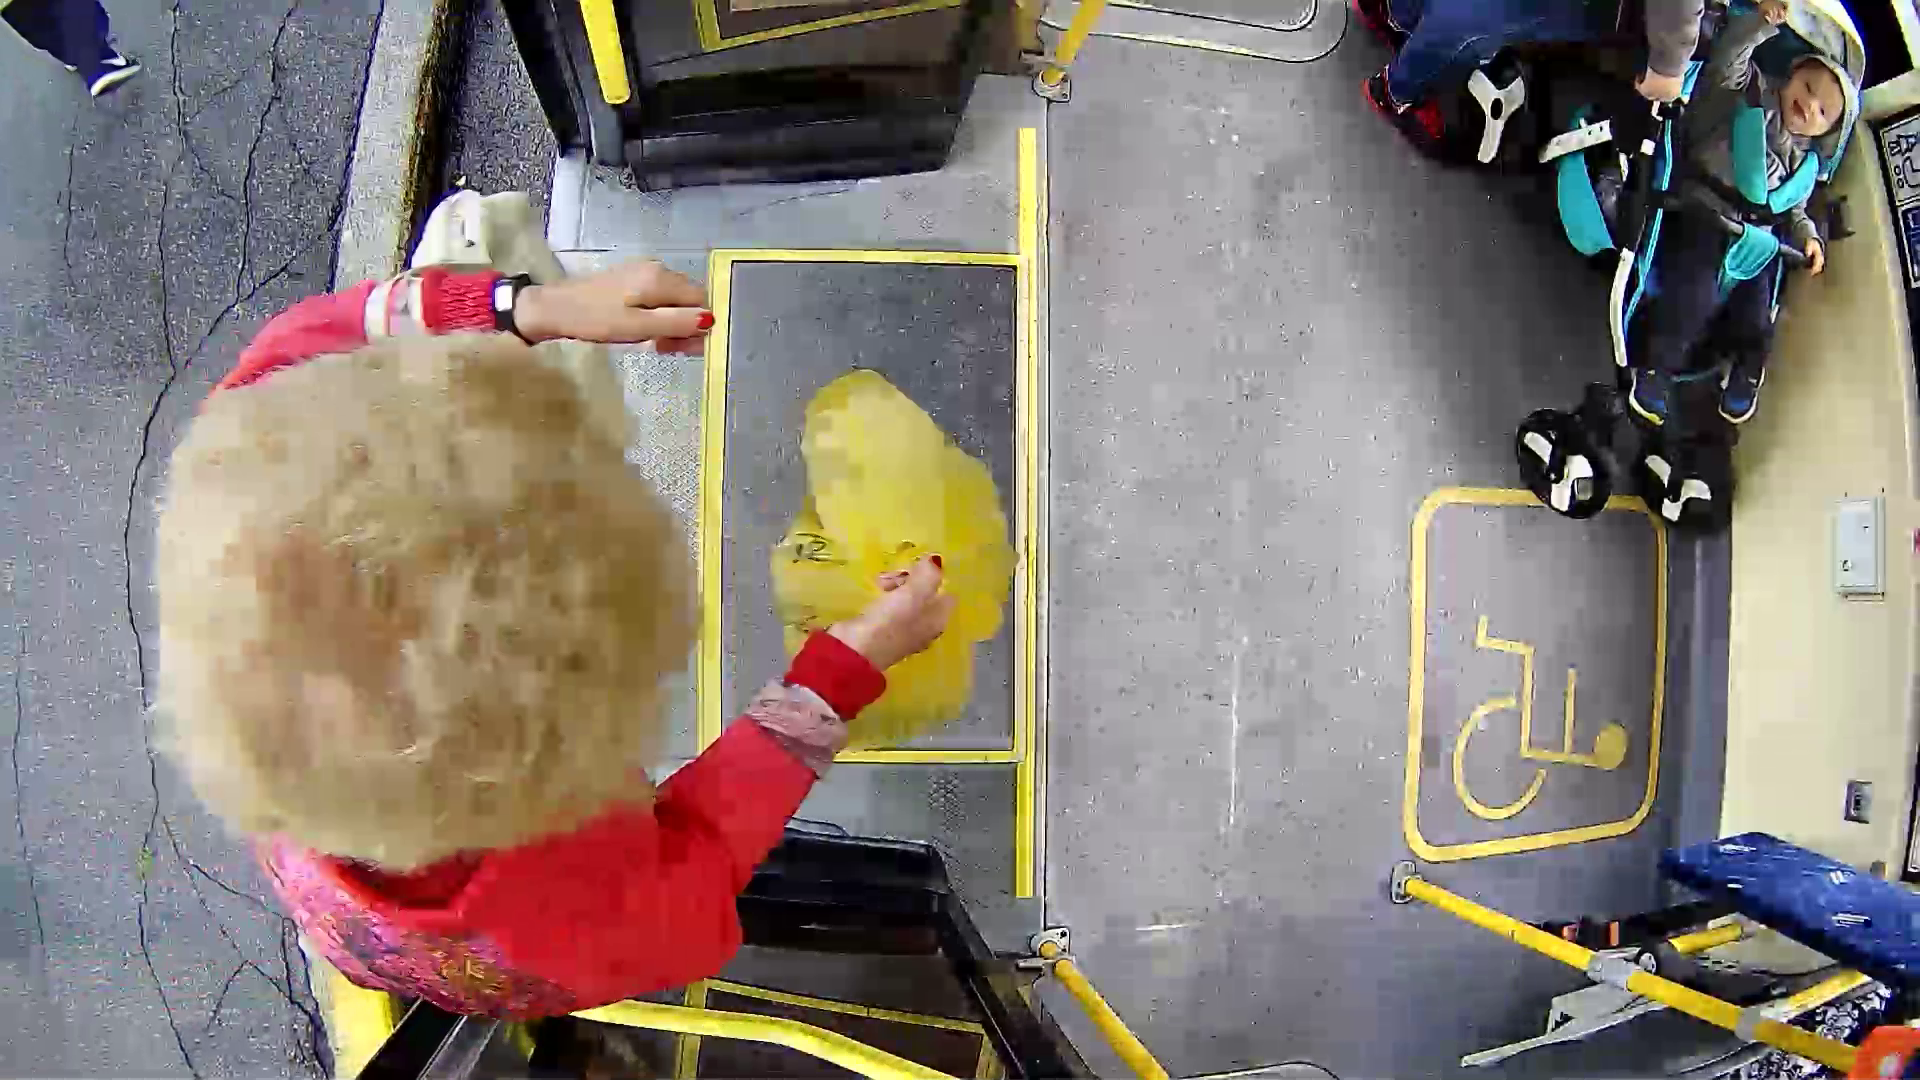person: (129, 214, 1038, 973)
